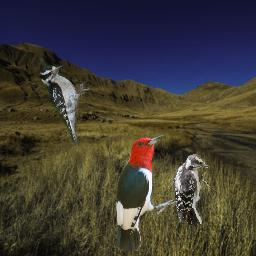Woodpecker: (115, 135, 178, 251), (39, 65, 90, 145), (173, 154, 211, 228)
